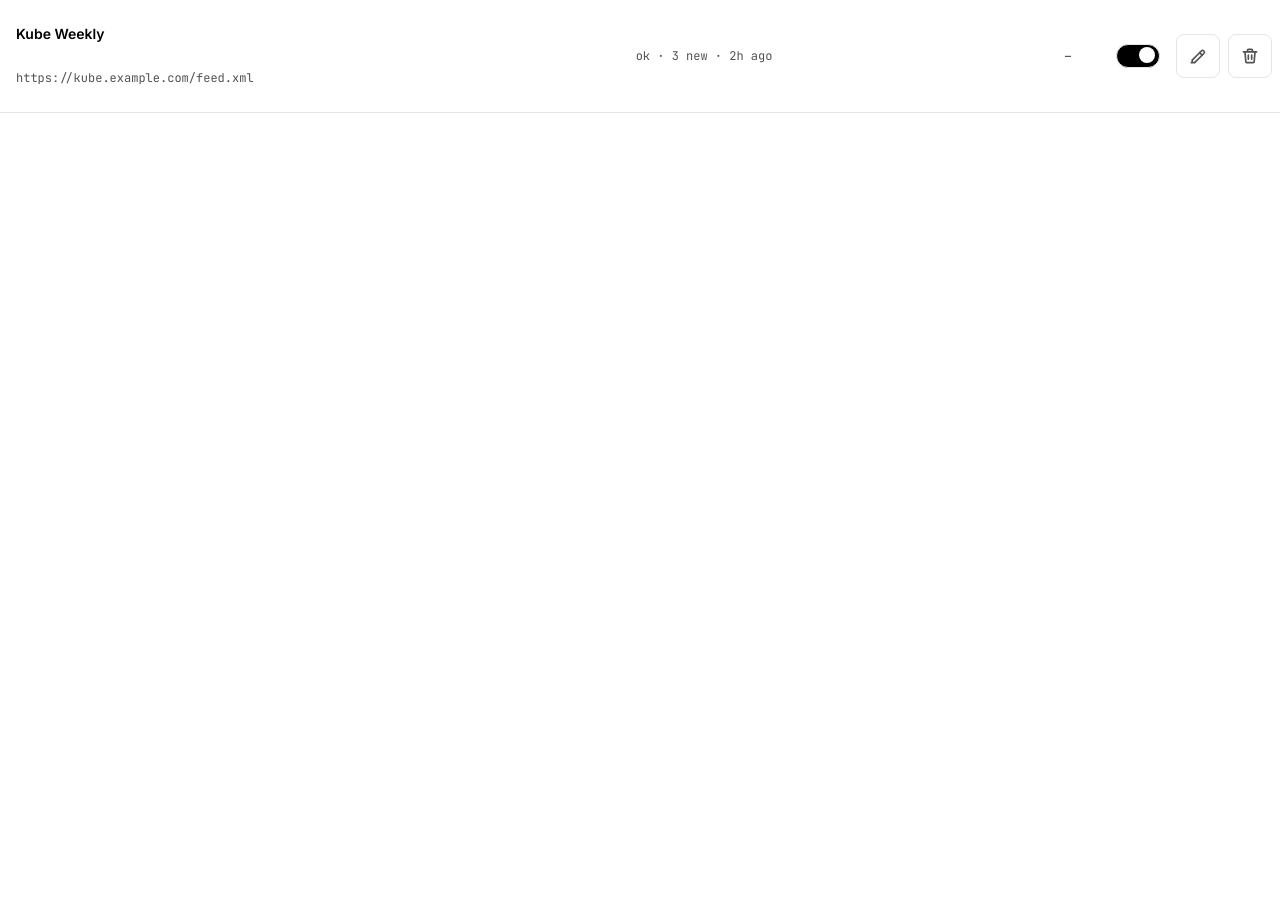
Test: SourceRow edit form › keeps the form and the draft open when saving fails
Click the button named "Edit Kube Weekly" at [1198, 56], box [1176,34,1220,78]
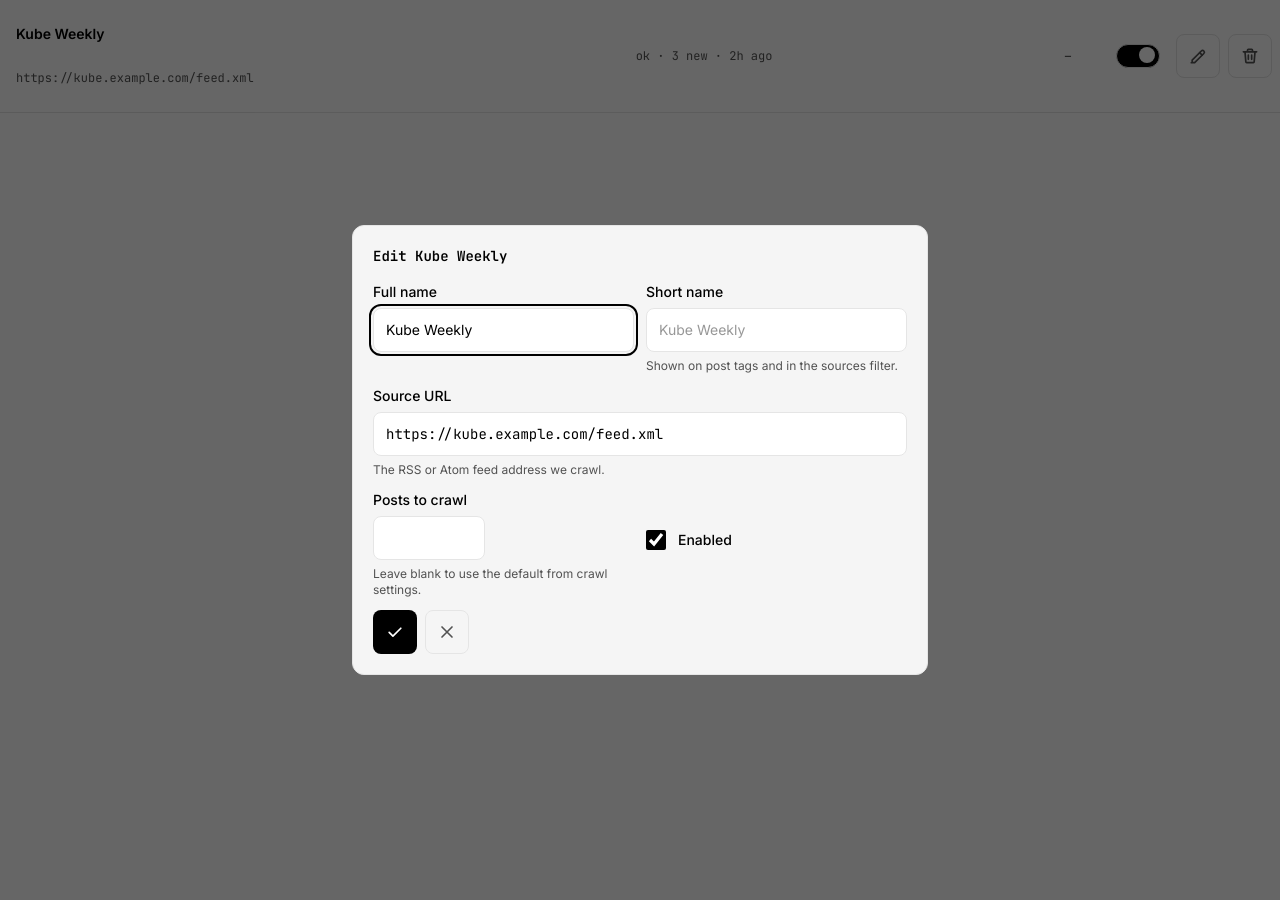
Replace the text in the field labelled "Source URL" with "https://nope.example.com/" at [640, 434], box [373,412,907,456]
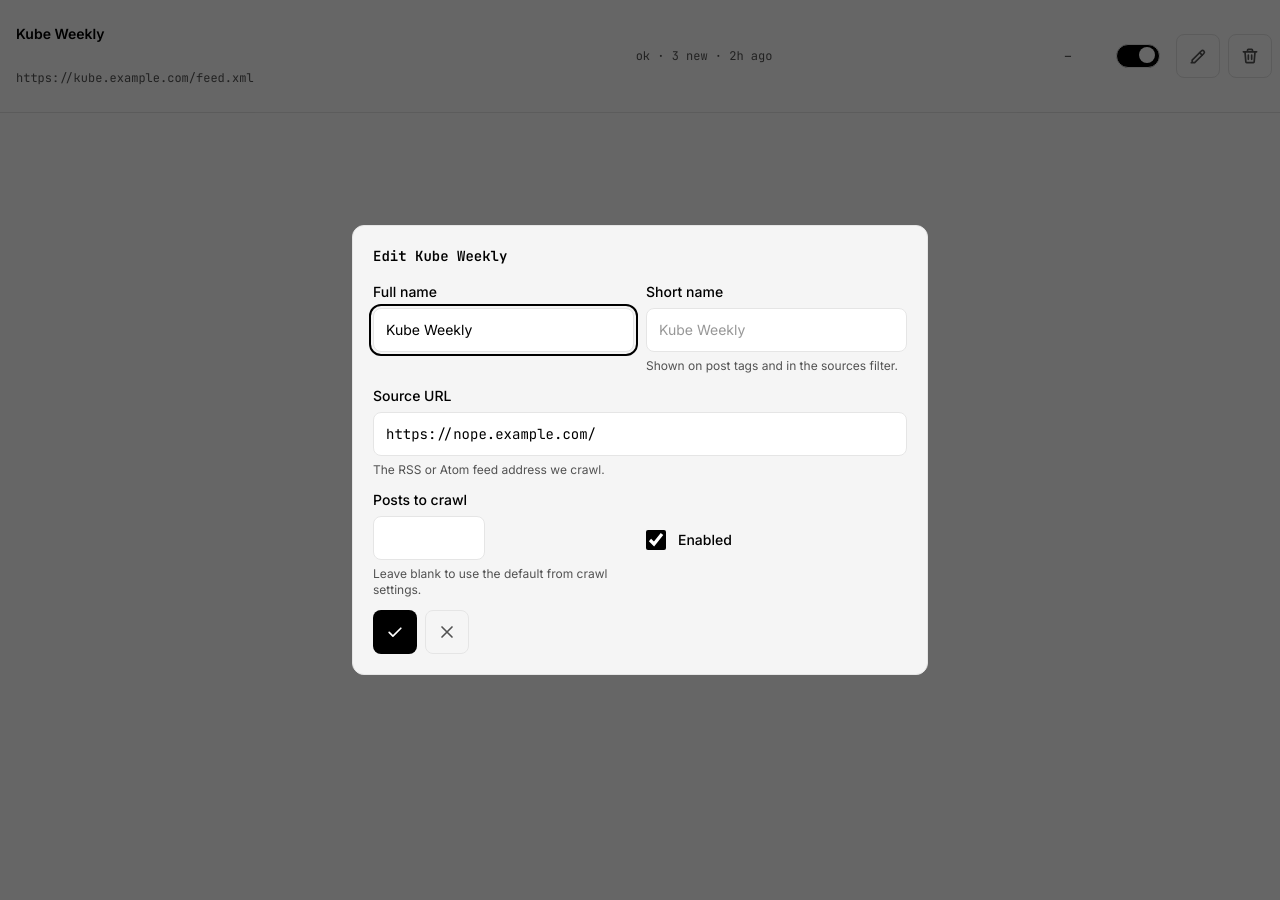
Click the button named "Save" at [395, 632], box [373,610,417,654]
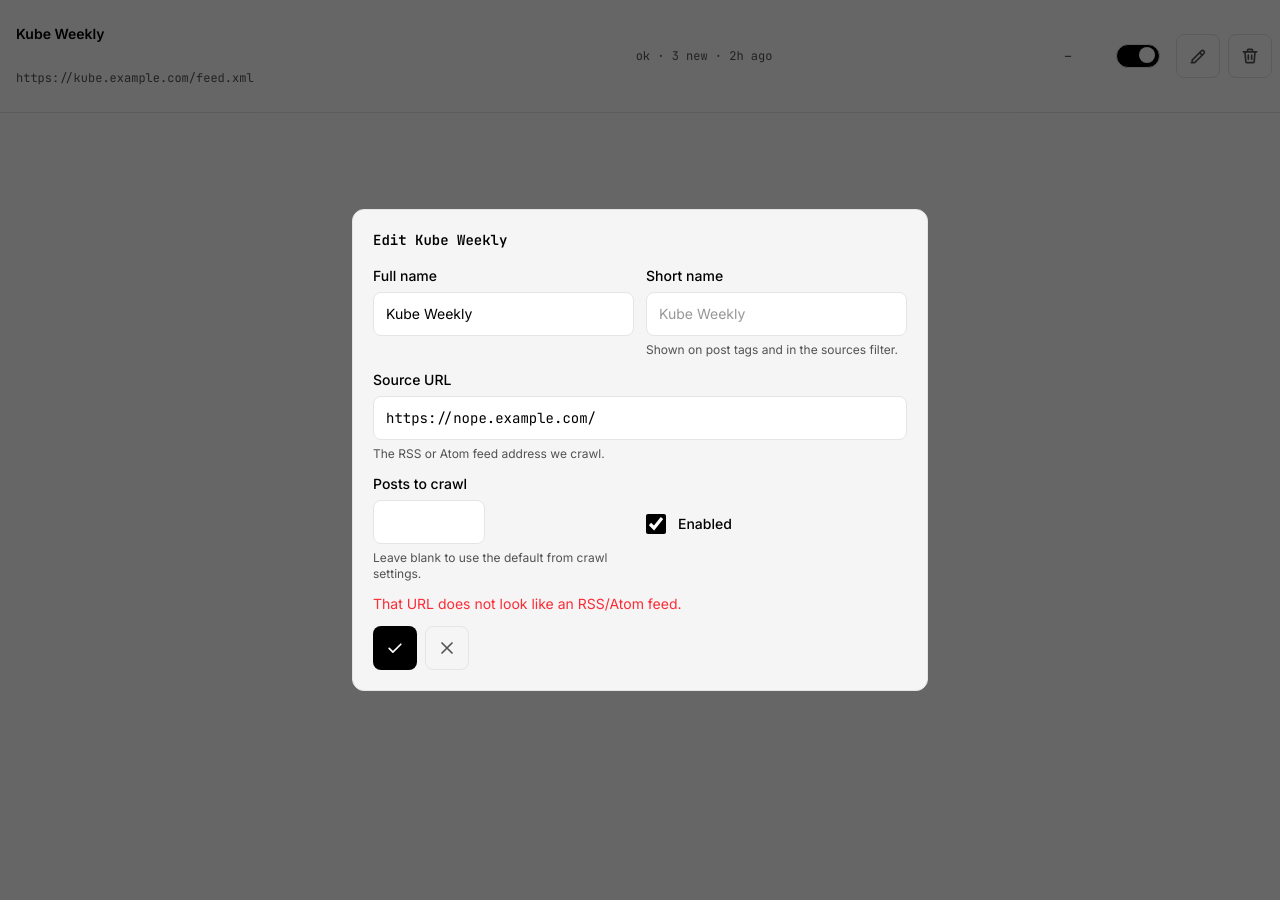
Check: the message shows "does not look like", box [373,595,682,612]
